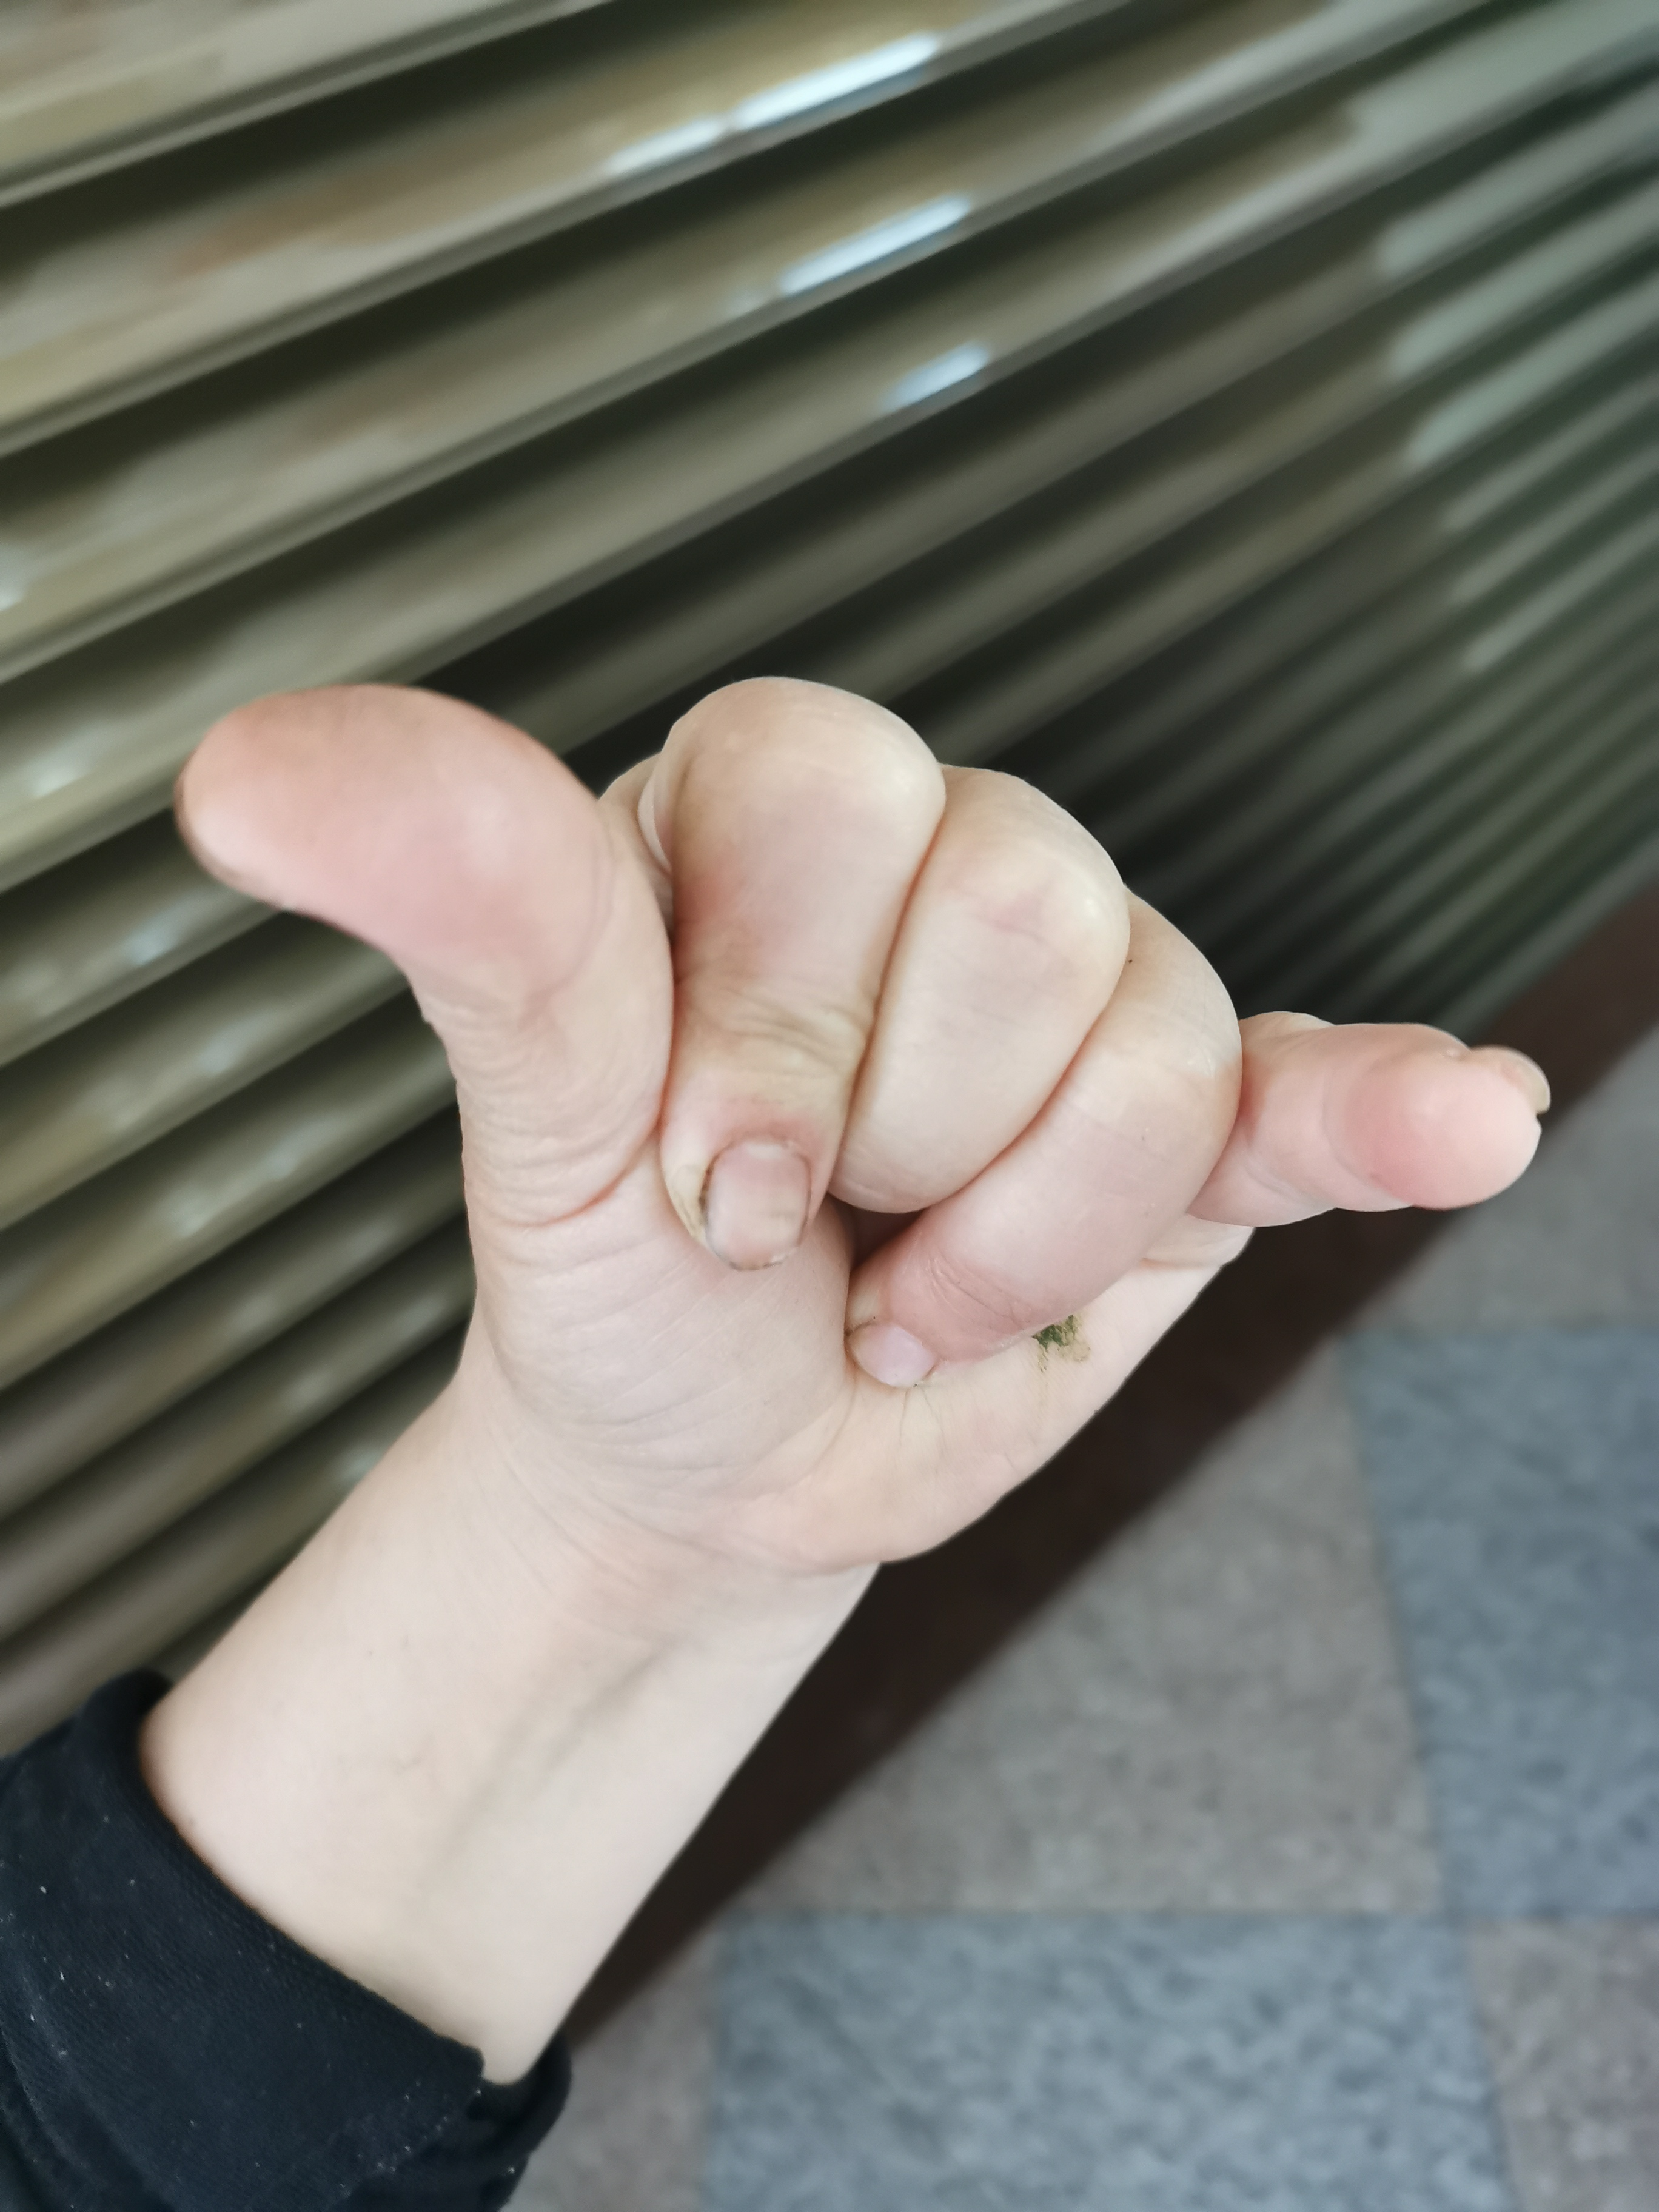clockwise: (157, 672, 1563, 1545)
